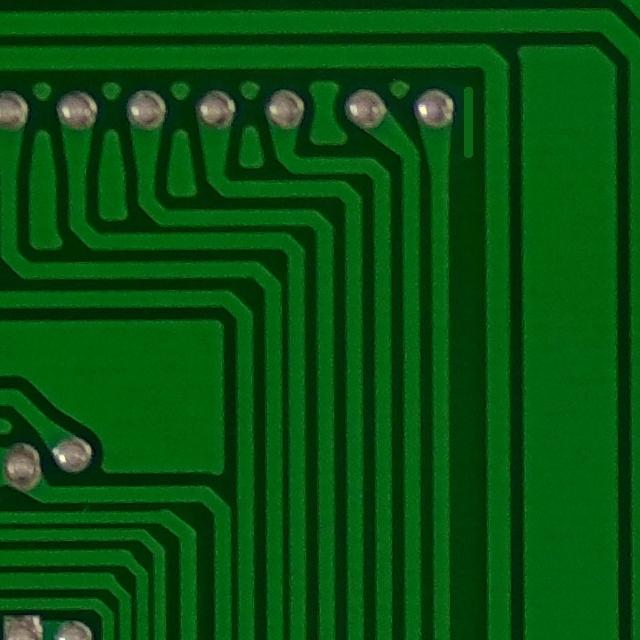spurious_copper: (449, 74, 491, 175)
